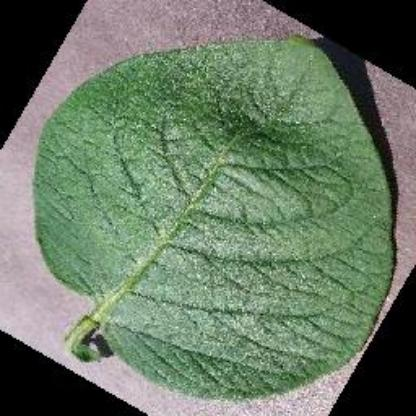Healthy-plant: (19, 18, 412, 406)
